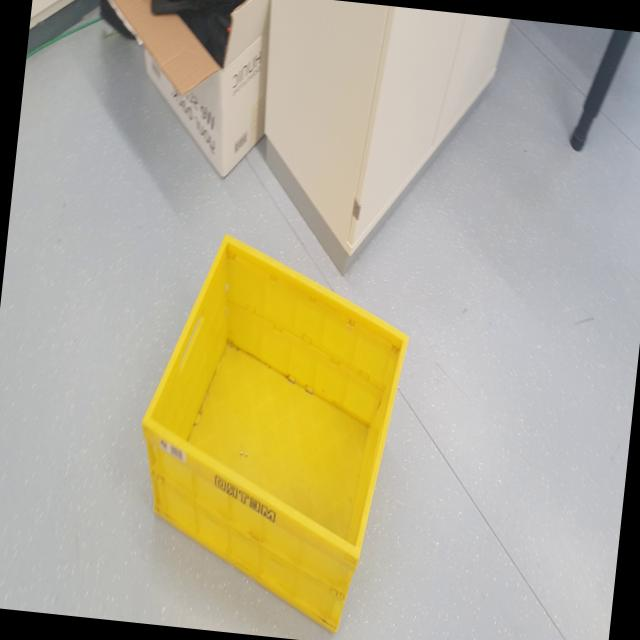box: (115, 218, 431, 632)
